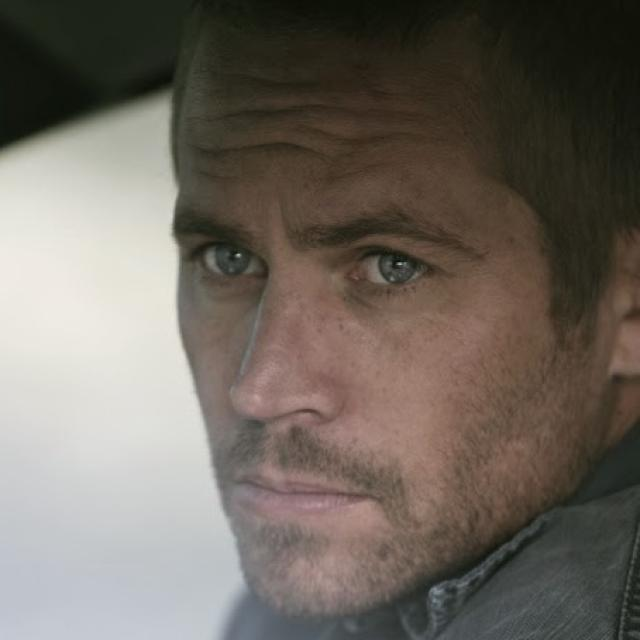Depress: (171, 36, 586, 623)
